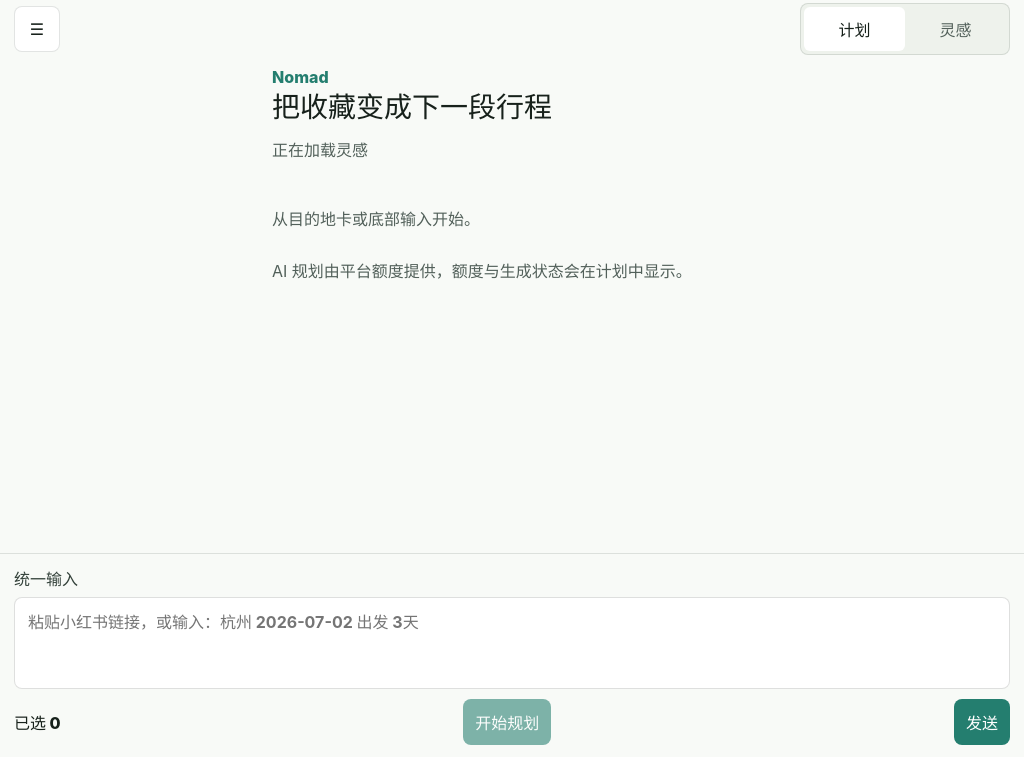
Scenario: HomeScreen › shows pending-location candidates with name and address only
The width and height of the screenshot is (1024, 757).
Click the button "灵感" at (956, 29), box 905,7 -> 1006,51
(page scrolled)
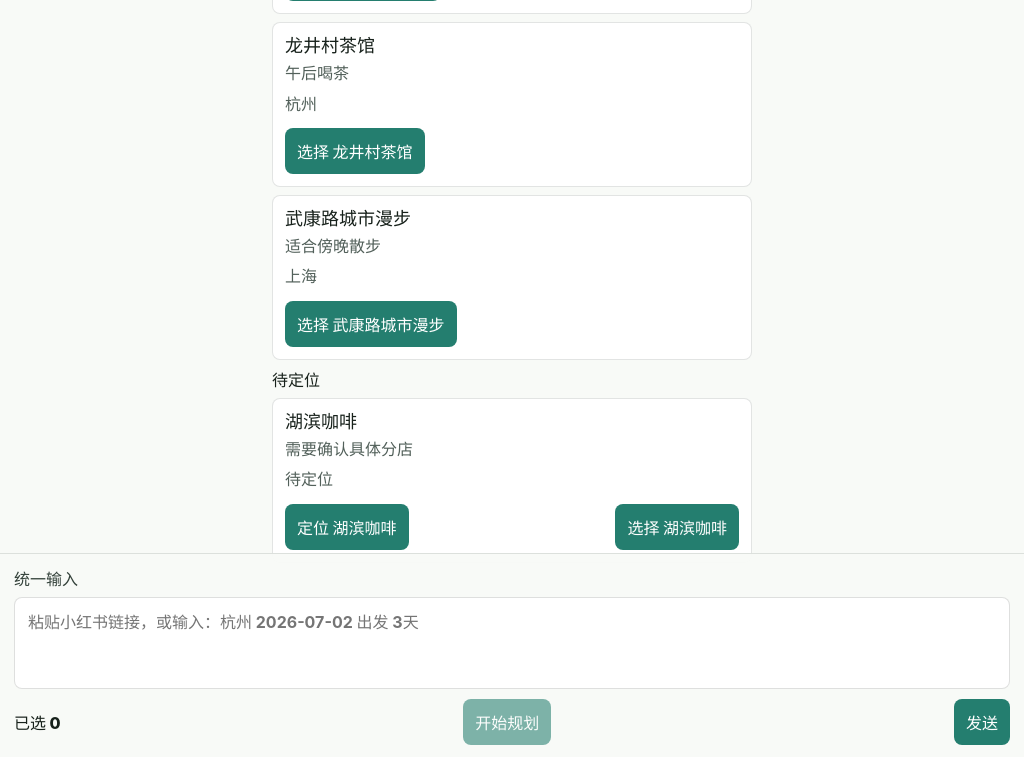
Click the button "定位 湖滨咖啡" at (347, 526), box 285,504 -> 408,550
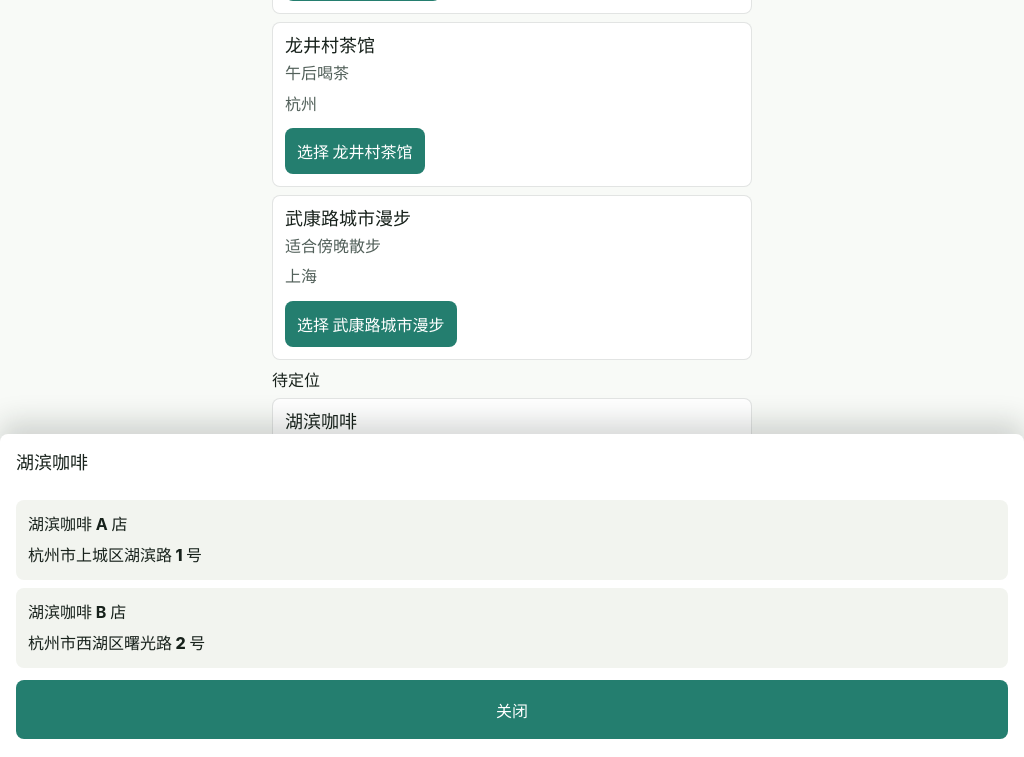
Now the text "湖滨咖啡 A 店" is shown, box 28,514 -> 128,534
Now the text "杭州市上城区湖滨路 1 号" is shown, box 28,545 -> 202,565
